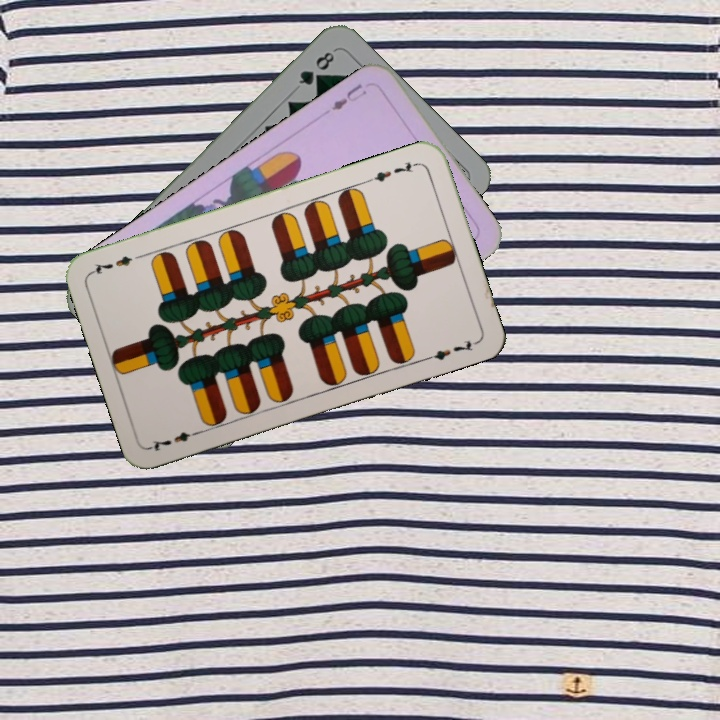E7: (364, 157, 422, 185), (147, 426, 204, 454)
EU: (327, 79, 370, 113)
G8: (294, 47, 338, 88)
